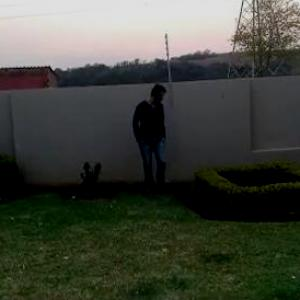follow: (132, 77, 168, 200)
